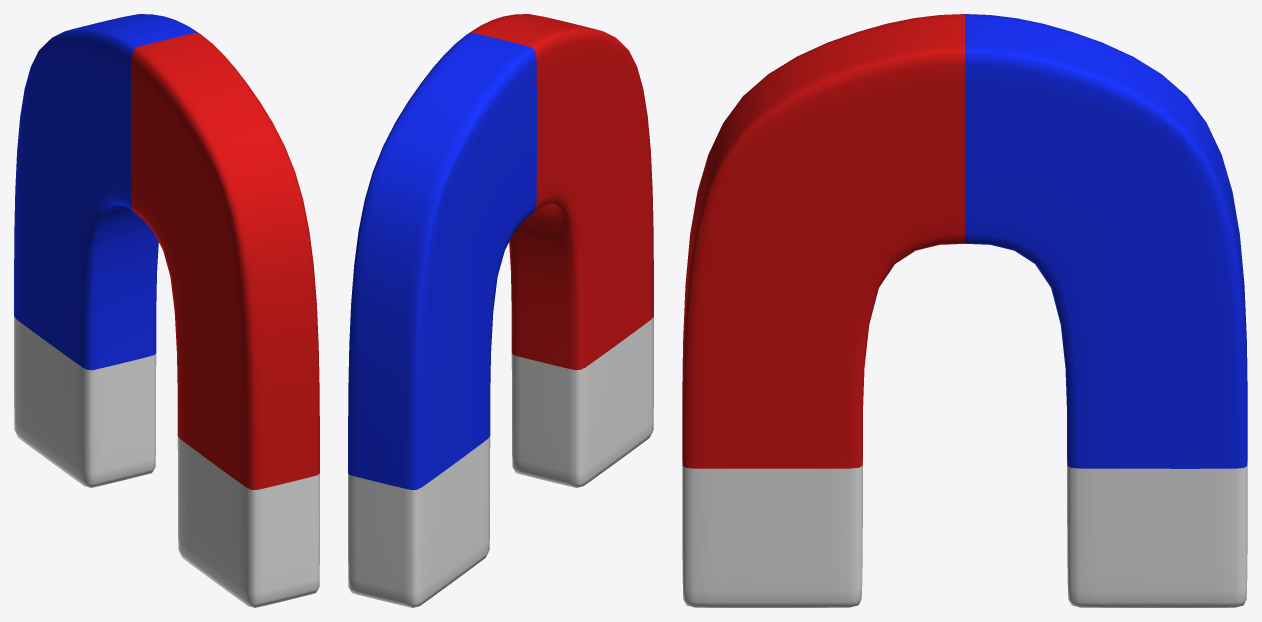
File: magnet.FBX
3 views of the same model, side by side, from view 1: azimuth 30°, elevation 25°; view 2: azimuth 150°, elevation 25°; view 3: azimuth 270°, elevation 25° (orthographic). The views are drawn at different scales.
Visible parts, largest first — view 1: Box002; view 2: Box002; view 3: Box002.
Boxes of the visible parts, box(x1,y1,x2,y2) form: Box002: box(14, 14, 319, 607); Box002: box(348, 14, 653, 607); Box002: box(682, 14, 1247, 607).
Bounding box in the file's own units: 3.19 × 20.19 × 18.47.
